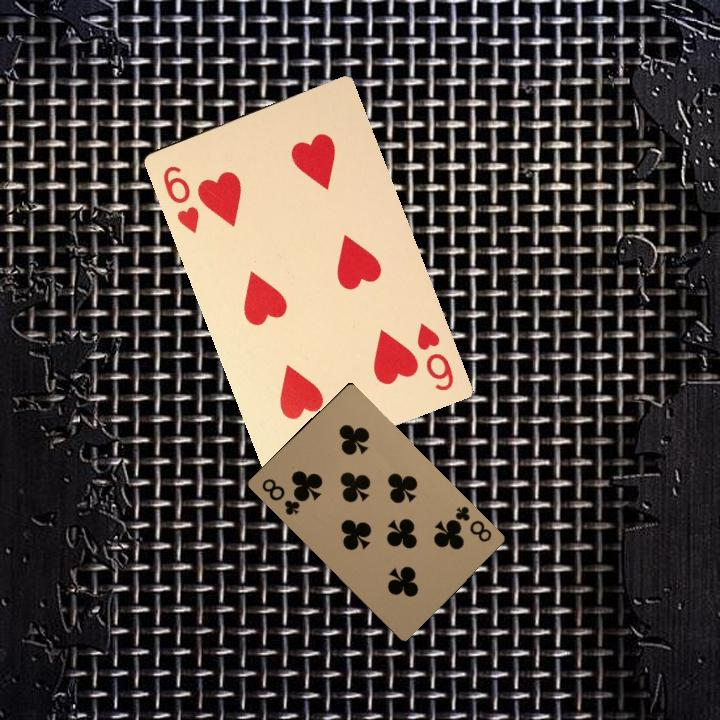6h: (412, 318, 456, 394), (159, 162, 202, 234)
8c: (447, 502, 494, 545), (258, 474, 302, 518)
